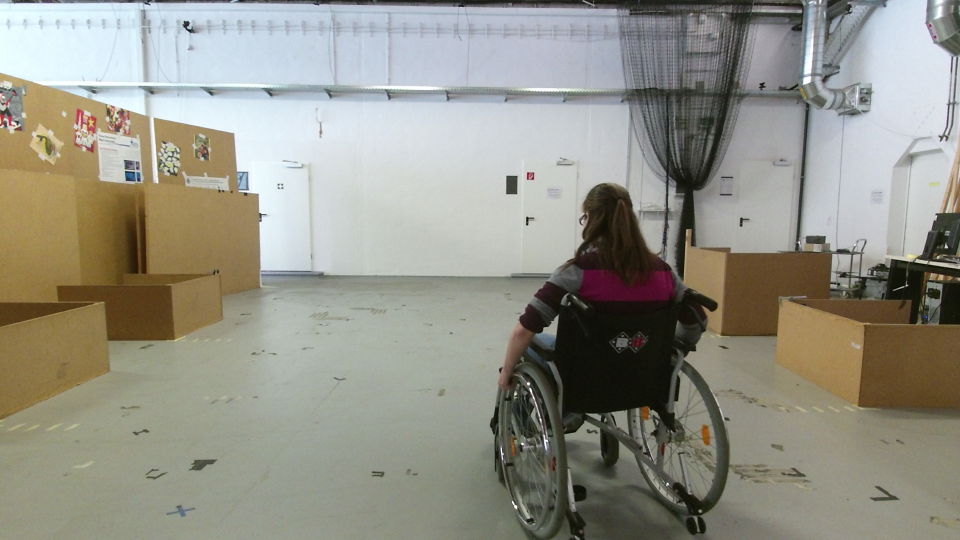wheelchair: (477, 173, 748, 539)
